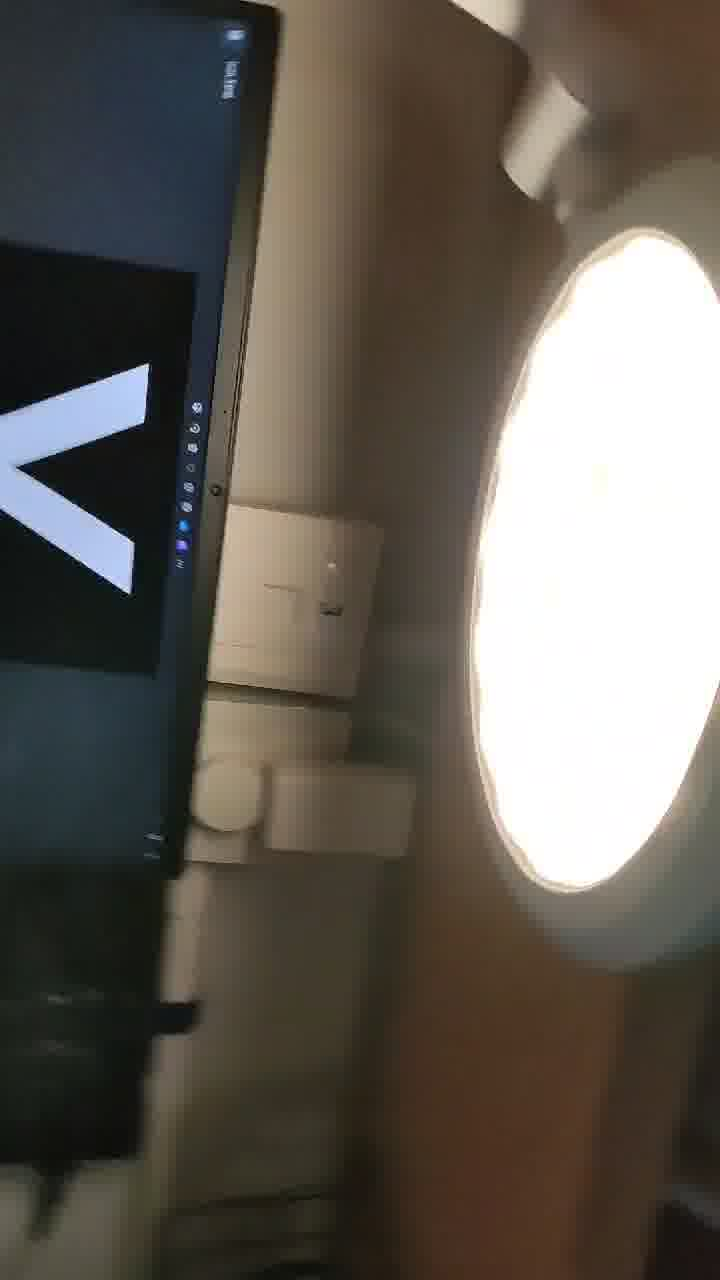X: (1, 168, 226, 623)
